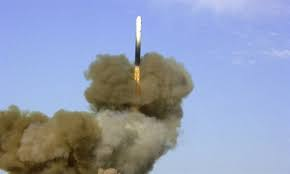ten_lua: (134, 12, 144, 69)
